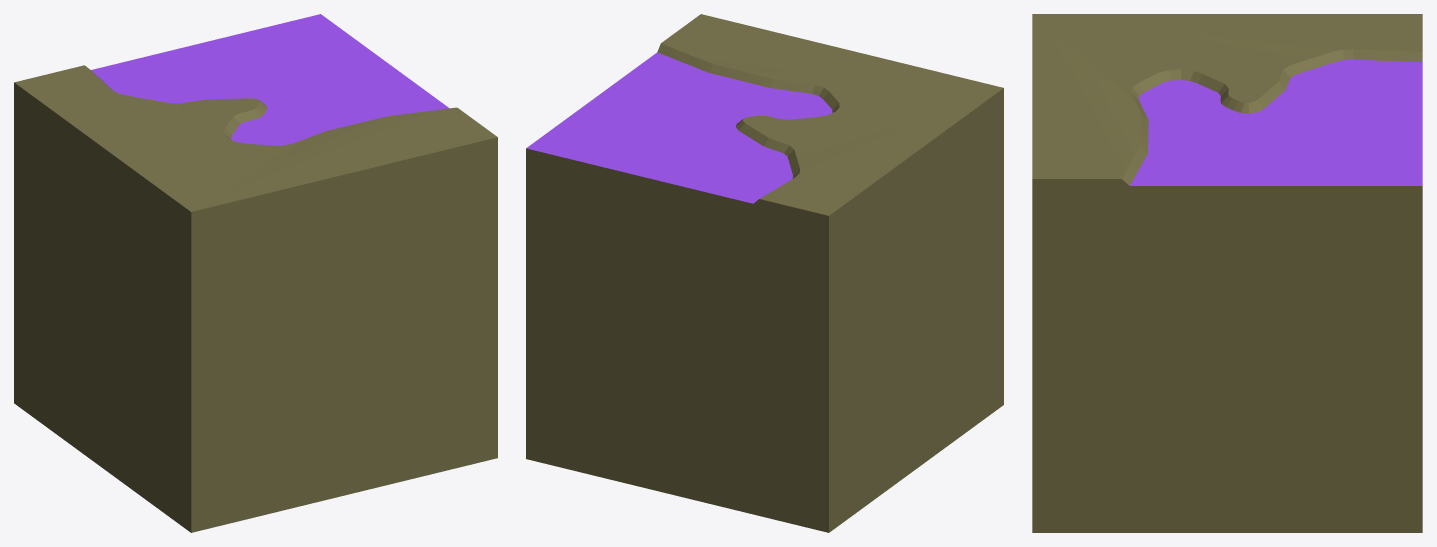
The model's file is tile_toxic_4x_03.fbx.
3 views of the same model, side by side, from view 1: azimuth 30°, elevation 25°; view 2: azimuth 150°, elevation 25°; view 3: azimuth 270°, elevation 25° (orthographic). The views are drawn at different scales.
Parts seen in each view (by area): view 1: tile_toxic_4x_03; view 2: tile_toxic_4x_03; view 3: tile_toxic_4x_03.
Part boxes in pixels (box(x1,y1,x2,y2)): tile_toxic_4x_03: box(14, 14, 497, 532); tile_toxic_4x_03: box(526, 14, 1003, 532); tile_toxic_4x_03: box(1032, 14, 1422, 532).
Size of the model in its own units: 100 by 100 by 100.
